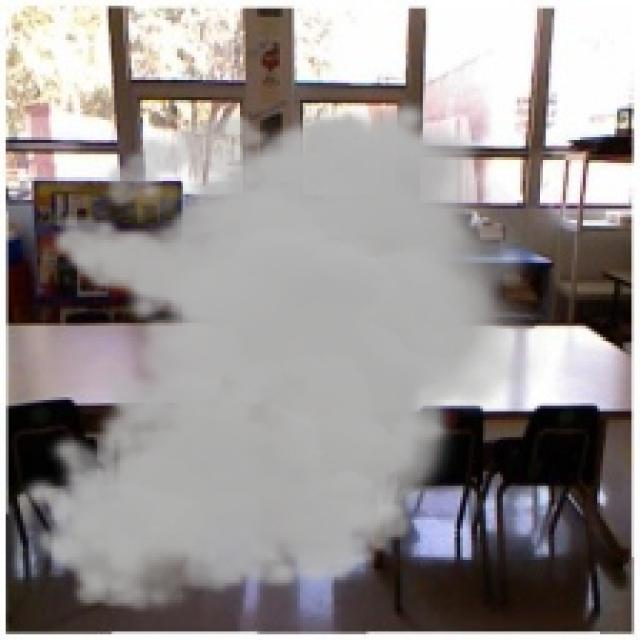smoke: (17, 97, 552, 614)
